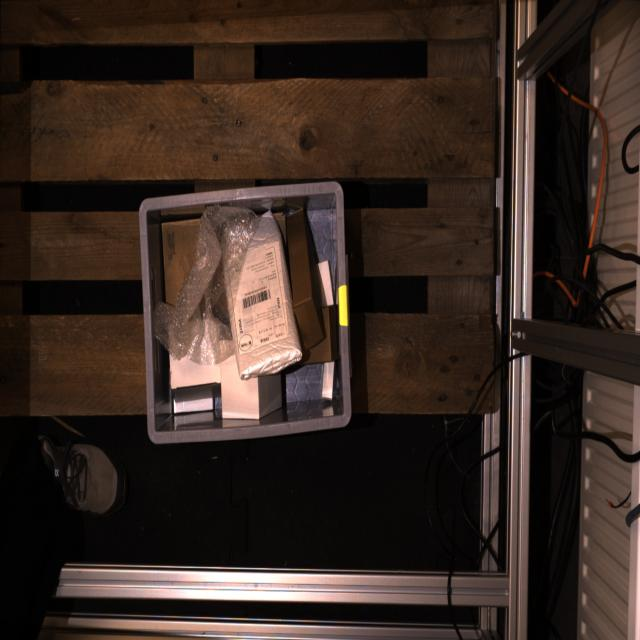CardboardBox: (286, 208, 324, 349), (220, 358, 281, 419), (162, 218, 200, 305), (298, 308, 331, 365), (170, 356, 220, 388), (172, 387, 213, 413), (317, 263, 335, 307), (321, 363, 335, 402)
Package: (222, 213, 301, 381)
PackagingAirBags: (153, 205, 261, 365)
